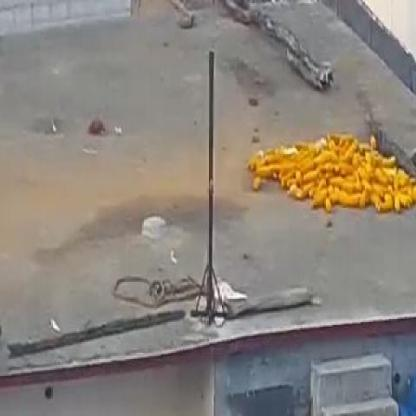other: (246, 109, 411, 219)
